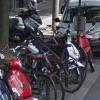Motorcycle: (40, 22, 91, 75)
